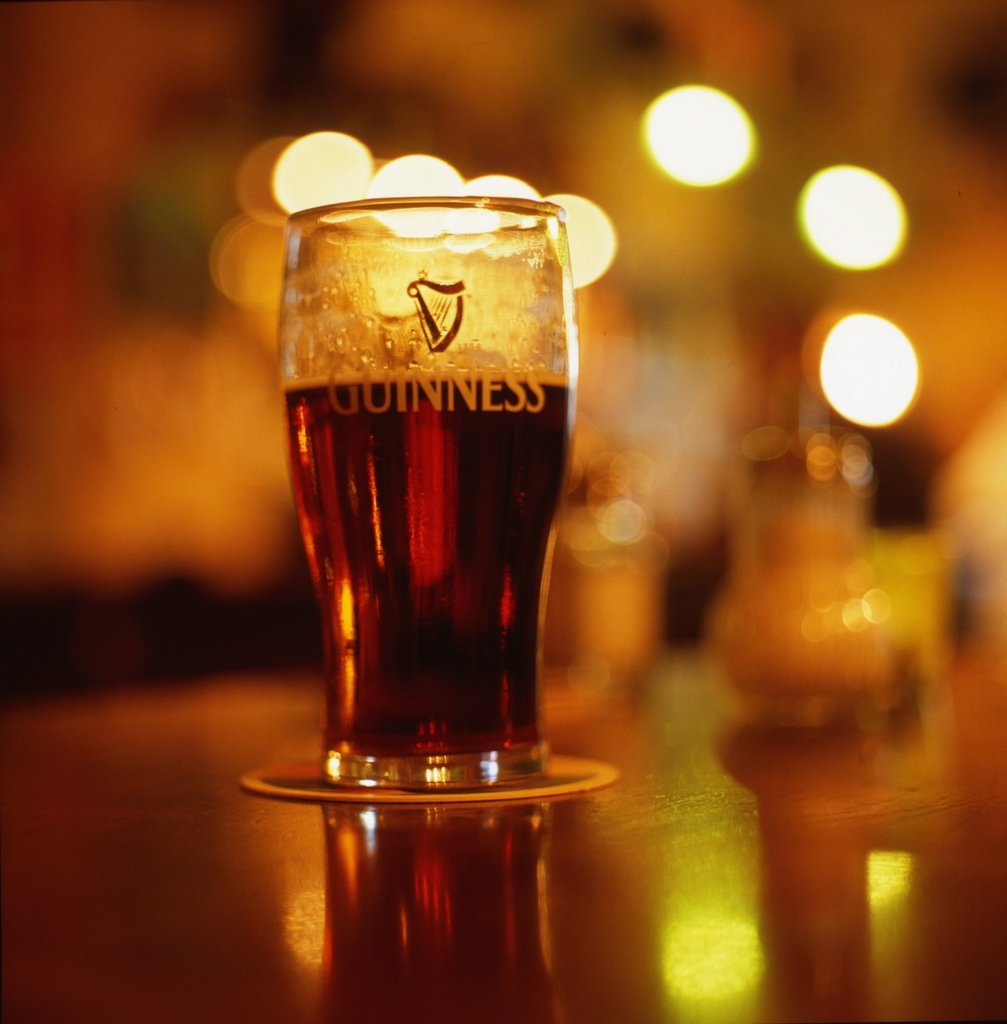Beer: (238, 174, 595, 808)
